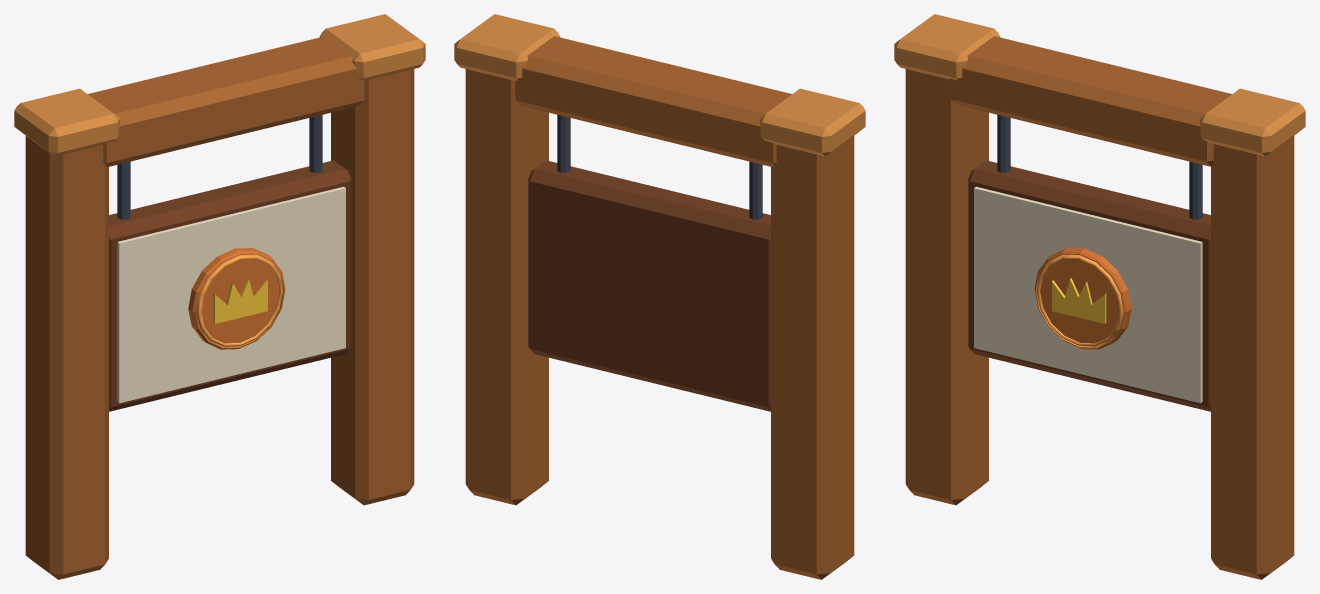
File: OrderSign.fbx
The picture shows the model from 3 angles, left to right: view 1: azimuth 30°, elevation 25°; view 2: azimuth 150°, elevation 25°; view 3: azimuth 330°, elevation 25°; orthographic projection.
Parts seen in each view (by area): view 1: Sign_Post_-0.62, Sign_Post_0.62, Order_Display_Surface, Sign_TopBeam, Sign_WoodFrame, Coin_OrderSign_Core, Sign_Post_-0.62_Cap, Sign_Post_0.62_Cap, Coin_Crown_Relief, Coin_OrderSign_Rim, Sign_Hanger_-0.39, Sign_Hanger_0.39; view 2: Sign_WoodFrame, Sign_Post_-0.62, Sign_Post_0.62, Sign_TopBeam, Sign_Post_-0.62_Cap, Sign_Post_0.62_Cap, Sign_Hanger_-0.39, Sign_Hanger_0.39; view 3: Sign_Post_0.62, Sign_Post_-0.62, Order_Display_Surface, Sign_TopBeam, Sign_WoodFrame, Coin_OrderSign_Core, Sign_Post_0.62_Cap, Sign_Post_-0.62_Cap, Coin_Crown_Relief, Coin_OrderSign_Rim, Sign_Hanger_0.39, Sign_Hanger_-0.39.
Part boxes in pixels (left/top/right/bottom): Sign_Post_-0.62: left=25, top=136, right=108, bottom=579; Sign_Post_0.62: left=331, top=69, right=414, bottom=505; Order_Display_Surface: left=117, top=186, right=345, bottom=403; Sign_TopBeam: left=88, top=36, right=364, bottom=166; Sign_WoodFrame: left=109, top=160, right=351, bottom=411; Coin_OrderSign_Core: left=188, top=248, right=285, bottom=349; Sign_Post_-0.62_Cap: left=14, top=88, right=120, bottom=156; Sign_Post_0.62_Cap: left=319, top=14, right=425, bottom=80; Coin_Crown_Relief: left=213, top=278, right=267, bottom=323; Coin_OrderSign_Rim: left=196, top=254, right=283, bottom=347; Sign_Hanger_-0.39: left=117, top=161, right=130, bottom=219; Sign_Hanger_0.39: left=309, top=114, right=322, bottom=172; Sign_WoodFrame: left=528, top=160, right=770, bottom=411; Sign_Post_-0.62: left=771, top=136, right=854, bottom=579; Sign_Post_0.62: left=465, top=69, right=548, bottom=505; Sign_TopBeam: left=515, top=36, right=791, bottom=166; Sign_Post_-0.62_Cap: left=759, top=88, right=865, bottom=156; Sign_Post_0.62_Cap: left=454, top=14, right=560, bottom=80; Sign_Hanger_-0.39: left=749, top=161, right=762, bottom=219; Sign_Hanger_0.39: left=557, top=114, right=570, bottom=172; Sign_Post_0.62: left=1211, top=136, right=1294, bottom=579; Sign_Post_-0.62: left=905, top=69, right=988, bottom=505; Order_Display_Surface: left=974, top=186, right=1202, bottom=403; Sign_TopBeam: left=949, top=36, right=1231, bottom=166; Sign_WoodFrame: left=968, top=160, right=1210, bottom=411; Coin_OrderSign_Core: left=1034, top=248, right=1131, bottom=349; Sign_Post_0.62_Cap: left=1199, top=88, right=1305, bottom=156; Sign_Post_-0.62_Cap: left=894, top=14, right=1000, bottom=80; Coin_Crown_Relief: left=1052, top=278, right=1106, bottom=323; Coin_OrderSign_Rim: left=1036, top=254, right=1123, bottom=347; Sign_Hanger_0.39: left=1189, top=161, right=1202, bottom=219; Sign_Hanger_-0.39: left=997, top=114, right=1010, bottom=172.
Size of the model in its own units: 1.53 by 1.78 by 0.2968.
